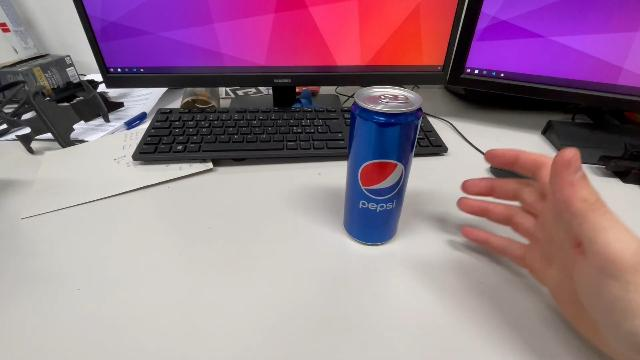Pepsi: (340, 82, 424, 246)
